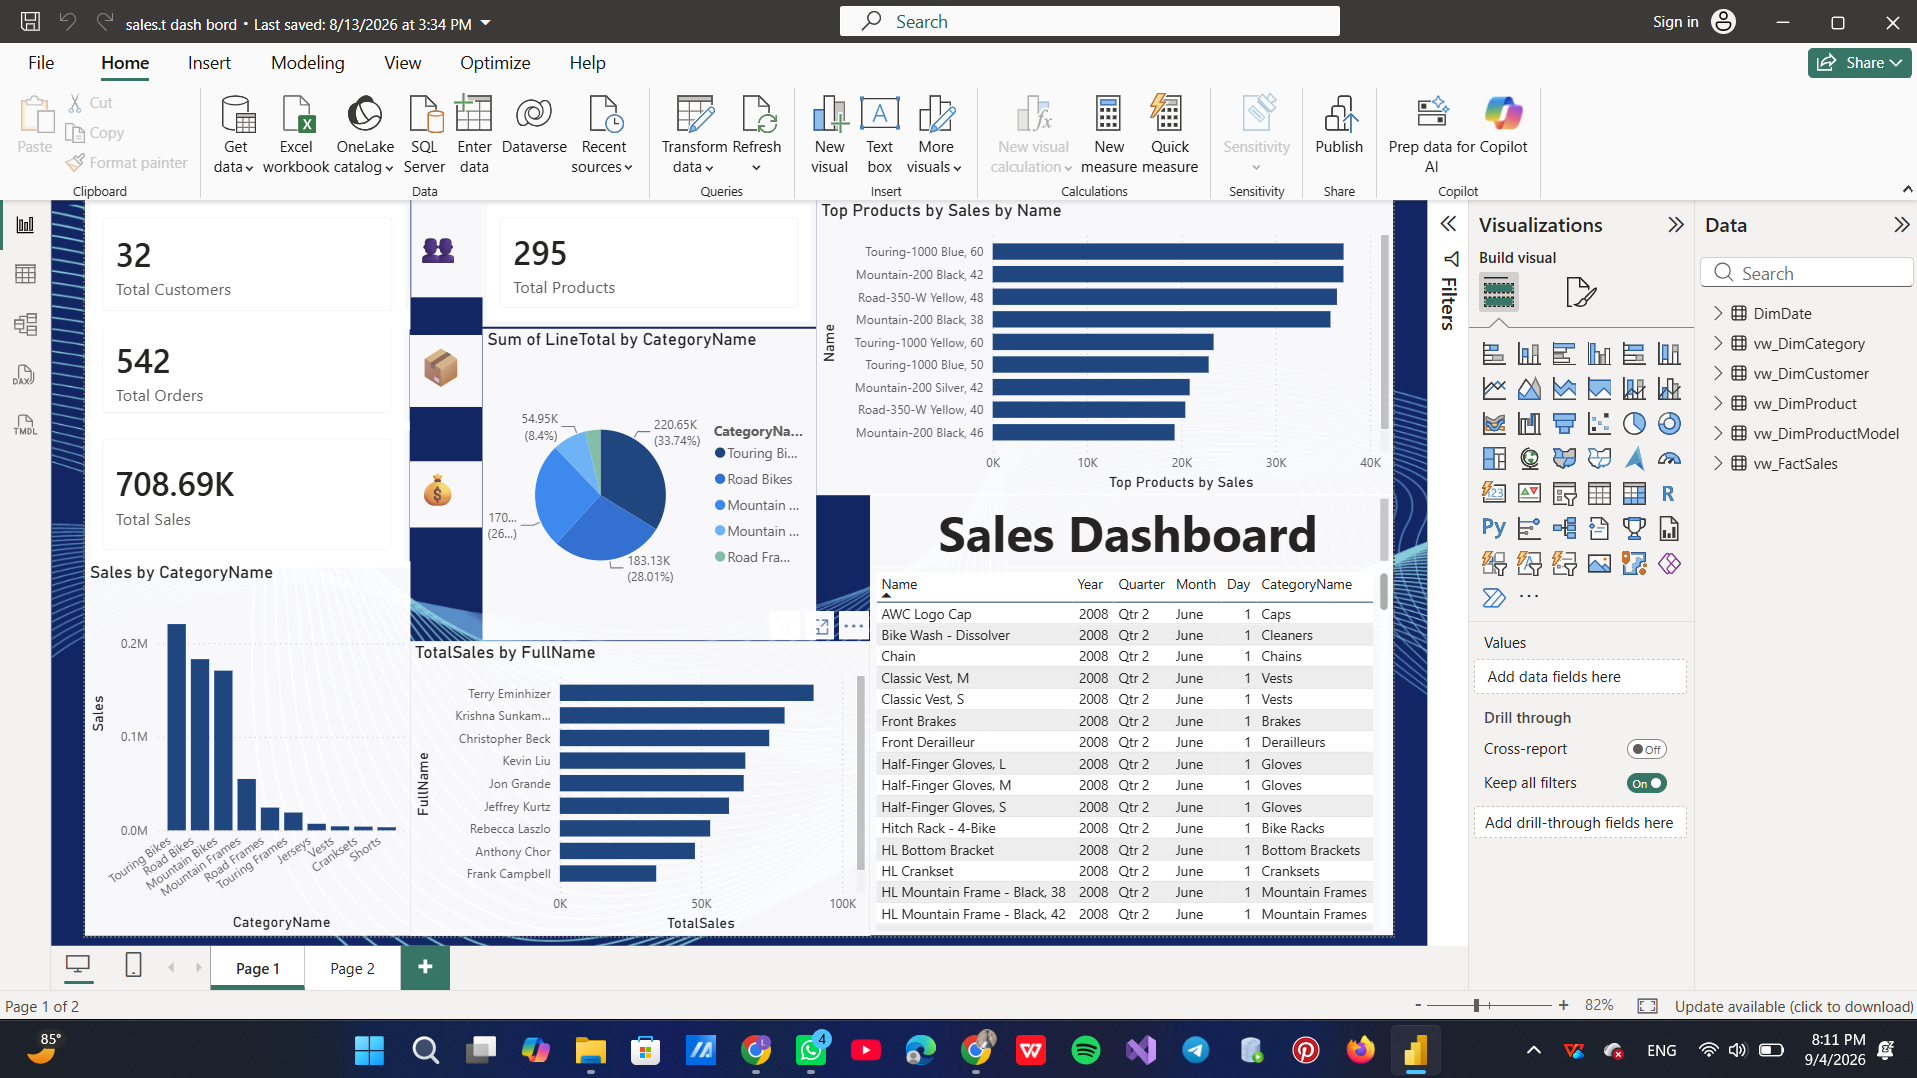

Layout of this report page (visuals, bound fields, positions):
{"tool":"powerbi","page":{"name":"Page 1","canvas":[1280,720],"ordinal":0},"visuals":[{"type":"cardVisual","fields":{"Data":["Sum(vw_FactSales.LineTotal)"]},"box":[0,216.4,317.9,143.1],"z":0},{"type":"cardVisual","fields":{"Data":["CountNonNull(vw_FactSales.SalesOrderID)"]},"box":[0,107.6,317.9,118.6],"z":1000},{"type":"clusteredBarChart","fields":{"Y":["Sum(vw_FactSales.LineTotal)"],"Category":["vw_DimProduct.Name"]},"box":[715,0,565,288.8],"z":2000},{"type":"columnChart","fields":{"Category":["vw_DimCategory.CategoryName"],"Y":["Sum(vw_FactSales.LineTotal)"]},"box":[0,353.8,318.8,366.2],"z":3000},{"type":"tableEx","fields":{"Values":["vw_DimProduct.Name","DimDate.FullDate.Variation.Date Hierarchy.Year","DimDate.FullDate.Variation.Date Hierarchy.Quarter","DimDate.FullDate.Variation.Date Hierarchy.Month","DimDate.FullDate.Variation.Date Hierarchy.Day","vw_DimCategory.CategoryName"]},"box":[767.5,360,512.5,360],"z":4000},{"type":"textbox","box":[767.5,287.5,512.5,72.5],"z":5000},{"type":"cardVisual","fields":{"Data":["Count(vw_FactSales.CustomerID)"]},"box":[0,0,318.8,126.2],"z":6000},{"type":"cardVisual","fields":{"Data":["Count(vw_DimProduct.ProductID)"]},"box":[388.8,0,326.2,123.8],"z":7000},{"type":"textbox","box":[318.8,0,70,95],"z":8000},{"type":"textbox","box":[317.5,132.5,70,70],"z":9000},{"type":"textbox","box":[317.5,255,70,65],"z":10000},{"type":"clusteredBarChart","fields":{"Category":["vw_DimCustomer.FullName"],"Y":["Sum(vw_FactSales.LineTotal)"]},"box":[317.5,431.2,450,288.8],"z":11000},{"type":"pieChart","fields":{"Category":["vw_DimCategory.CategoryName"],"Y":["Sum(vw_FactSales.LineTotal)"]},"box":[388.8,126.2,326.2,305],"z":12000}]}

Visuals, with their boxes on the page's 1280x720 design canvas (x1, y1, x2, y2). These are canvas units, not pixel positions in the 1917x1078 screenshot, which may show the page scaled, cropped or inside an application window:
cardVisual - Sum(vw_FactSales.LineTotal): bbox(0, 216, 318, 360)
cardVisual - CountNonNull(vw_FactSales.SalesOrderID): bbox(0, 108, 318, 226)
clusteredBarChart - Sum(vw_FactSales.LineTotal) x vw_DimProduct.Name: bbox(715, 0, 1280, 289)
columnChart - vw_DimCategory.CategoryName x Sum(vw_FactSales.LineTotal): bbox(0, 354, 319, 720)
tableEx - vw_DimProduct.Name x DimDate.FullDate.Variation.Date Hierarchy.Year: bbox(768, 360, 1280, 720)
textbox: bbox(768, 288, 1280, 360)
cardVisual - Count(vw_FactSales.CustomerID): bbox(0, 0, 319, 126)
cardVisual - Count(vw_DimProduct.ProductID): bbox(389, 0, 715, 124)
textbox: bbox(319, 0, 389, 95)
textbox: bbox(318, 132, 388, 202)
textbox: bbox(318, 255, 388, 320)
clusteredBarChart - vw_DimCustomer.FullName x Sum(vw_FactSales.LineTotal): bbox(318, 431, 768, 720)
pieChart - vw_DimCategory.CategoryName x Sum(vw_FactSales.LineTotal): bbox(389, 126, 715, 431)
